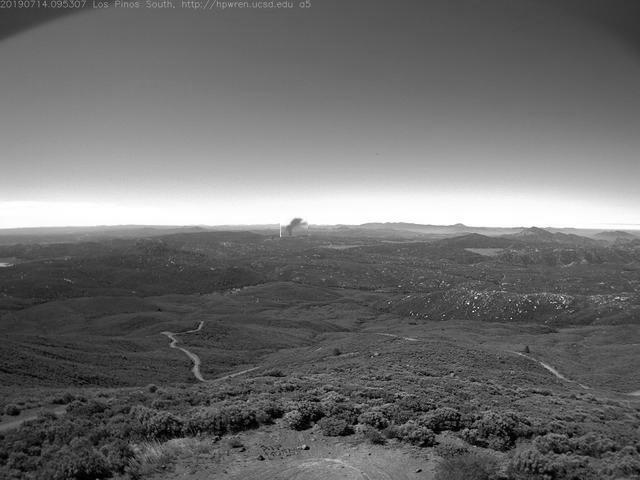smoke: (281, 214, 310, 239)
